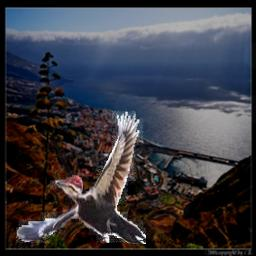Woodpecker: (16, 108, 146, 244)
